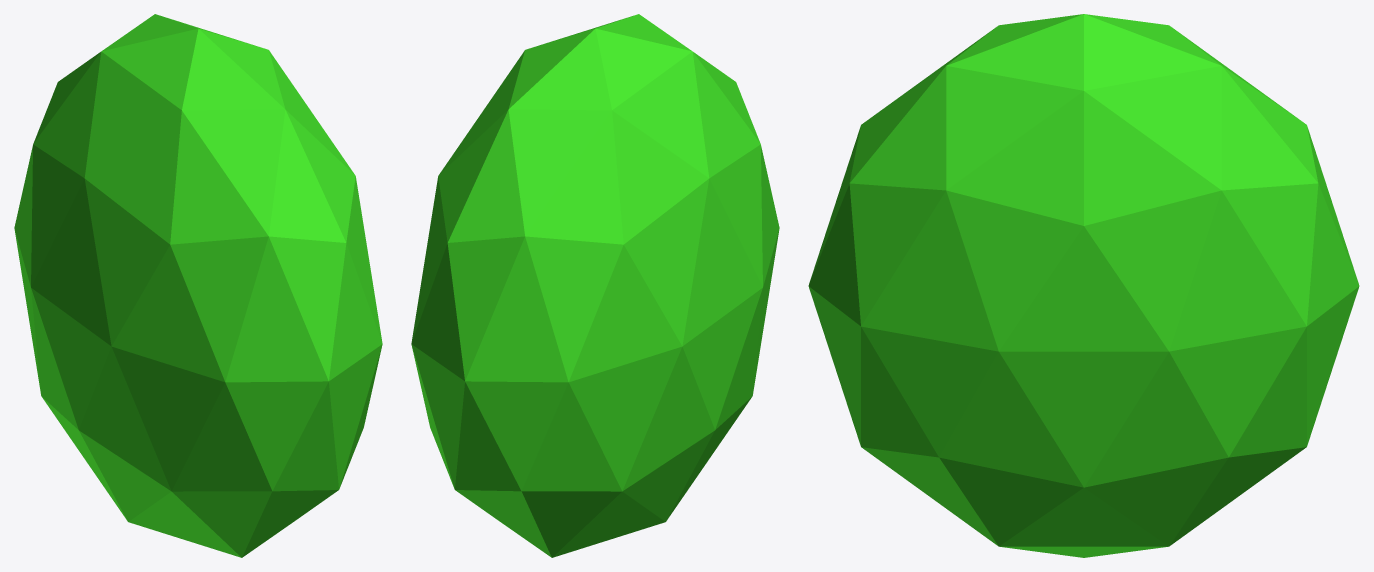
File: elmnt3.fbx
3 views of the same model, side by side, from view 1: azimuth 30°, elevation 25°; view 2: azimuth 150°, elevation 25°; view 3: azimuth 270°, elevation 25° (orthographic). The views are drawn at different scales.
Visible parts, largest first — view 1: Icosphere; view 2: Icosphere; view 3: Icosphere.
Boxes of the visible parts, <box> form: Icosphere: <box>14,14,382,557</box>; Icosphere: <box>411,14,779,557</box>; Icosphere: <box>808,14,1359,557</box>.
Size of the model in its own units: 190 by 368 by 338.
